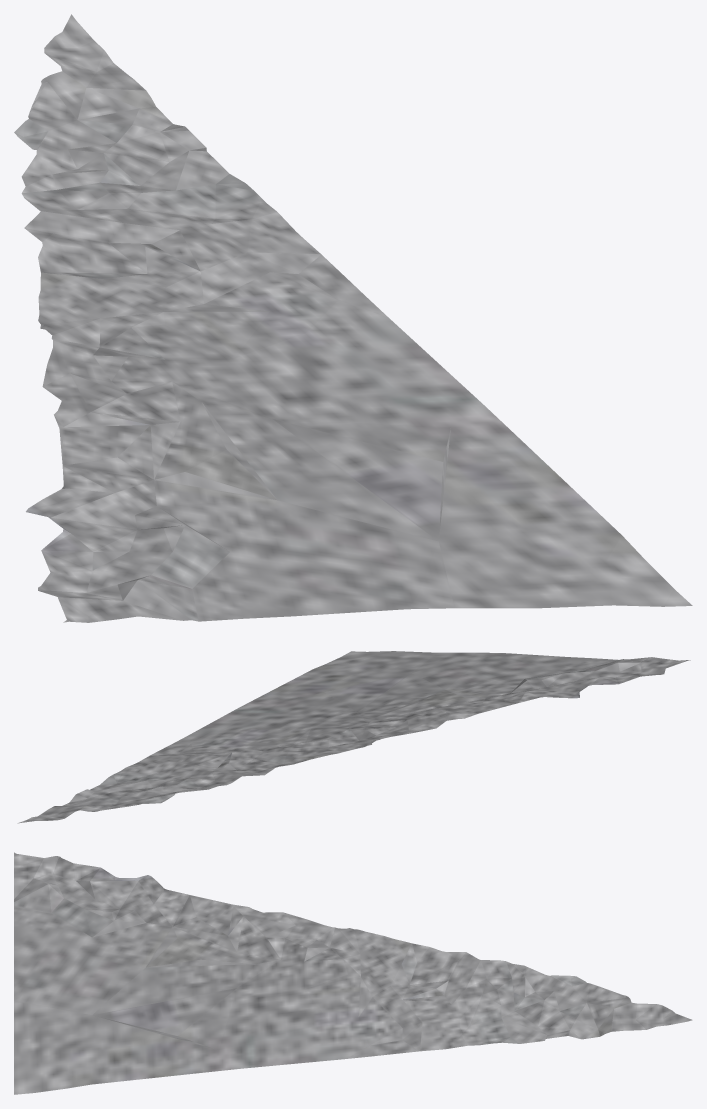
3 views of the same model, one above another, from view 1: azimuth 30°, elevation 25°; view 2: azimuth 150°, elevation 25°; view 3: azimuth 270°, elevation 25° (orthographic). The views are drawn at different scales.
Size of the model in its own units: 0.6596 by 0.137 by 1.13.
Materials: 1 (1 with a texture image).
